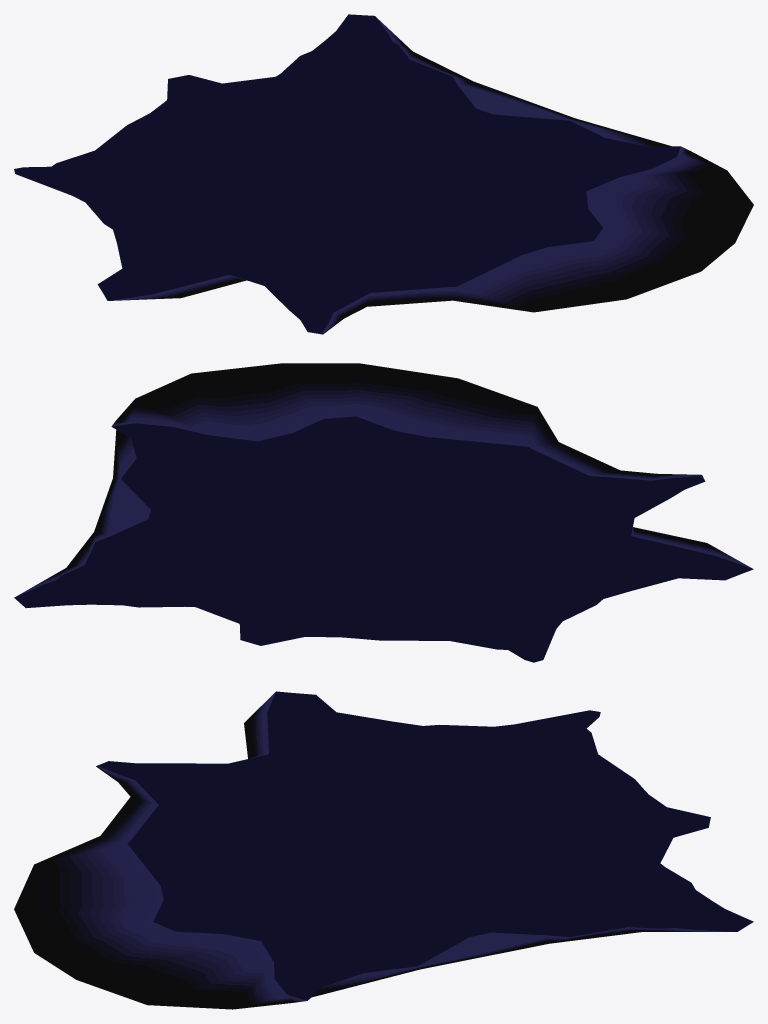
The picture shows the model from 3 angles, top to bottom: view 1: azimuth 30°, elevation 25°; view 2: azimuth 150°, elevation 25°; view 3: azimuth 270°, elevation 25°; orthographic projection. The views are drawn at different scales.
Parts seen in each view (by area): view 1: Joint_0_Object_0; view 2: Joint_0_Object_0; view 3: Joint_0_Object_0.
Boxes of the visible parts, x1=… form: Joint_0_Object_0: x1=14, y1=14, x2=753, y2=334; Joint_0_Object_0: x1=14, y1=363, x2=753, y2=662; Joint_0_Object_0: x1=14, y1=691, x2=753, y2=1009.
Size of the model in its own units: 2331 by 71.89 by 2300.
Materials: 1 (1 with a texture image).
